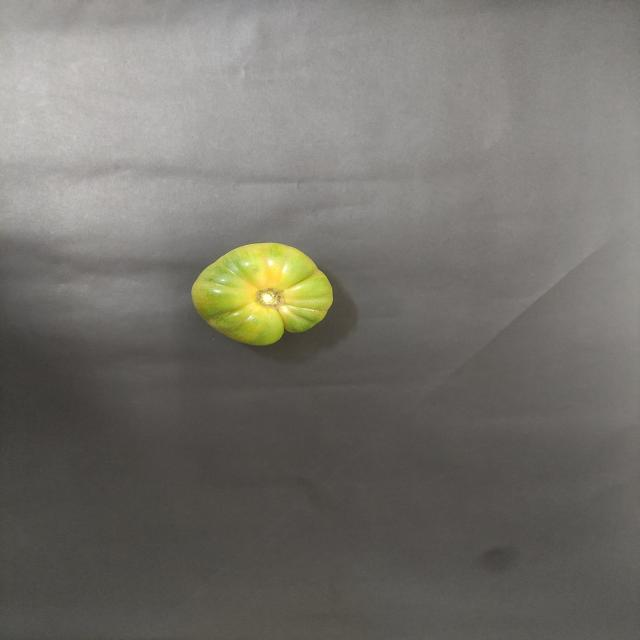yesil: (186, 238, 360, 353)
